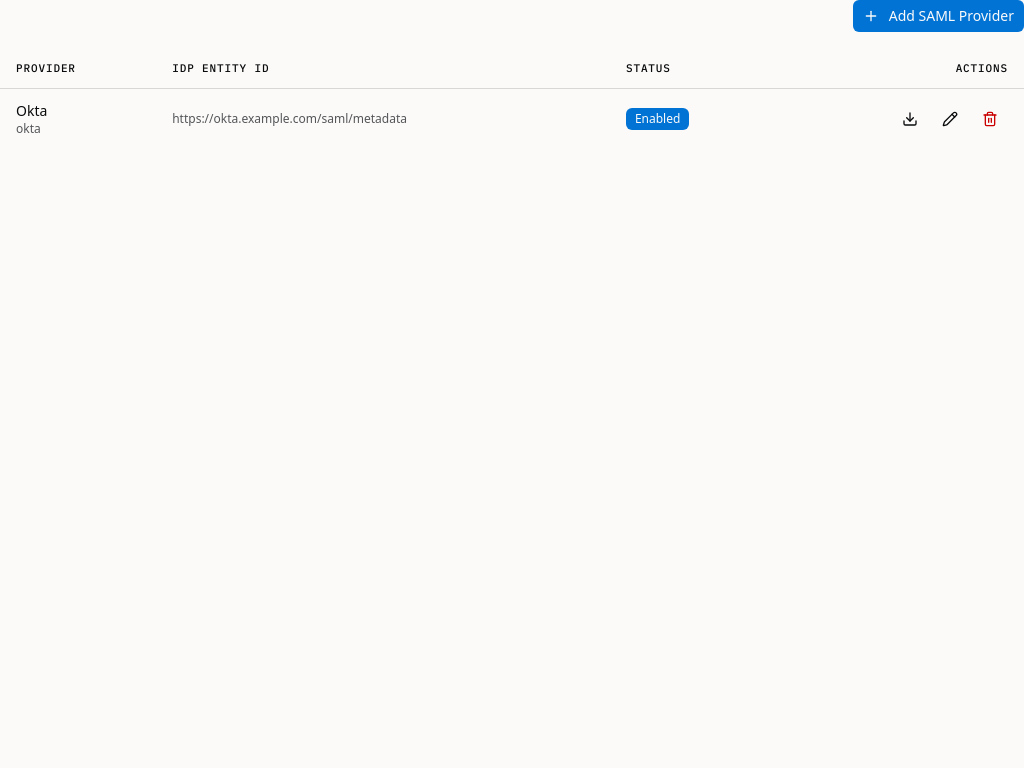
SamlProvidersSection provider mutations › opens the editor with the persisted entity IDs and SSO URL, and keeps the certificate blank
Click the button named "Edit provider" at (950, 119), box [932,103,968,135]
(page scrolled)
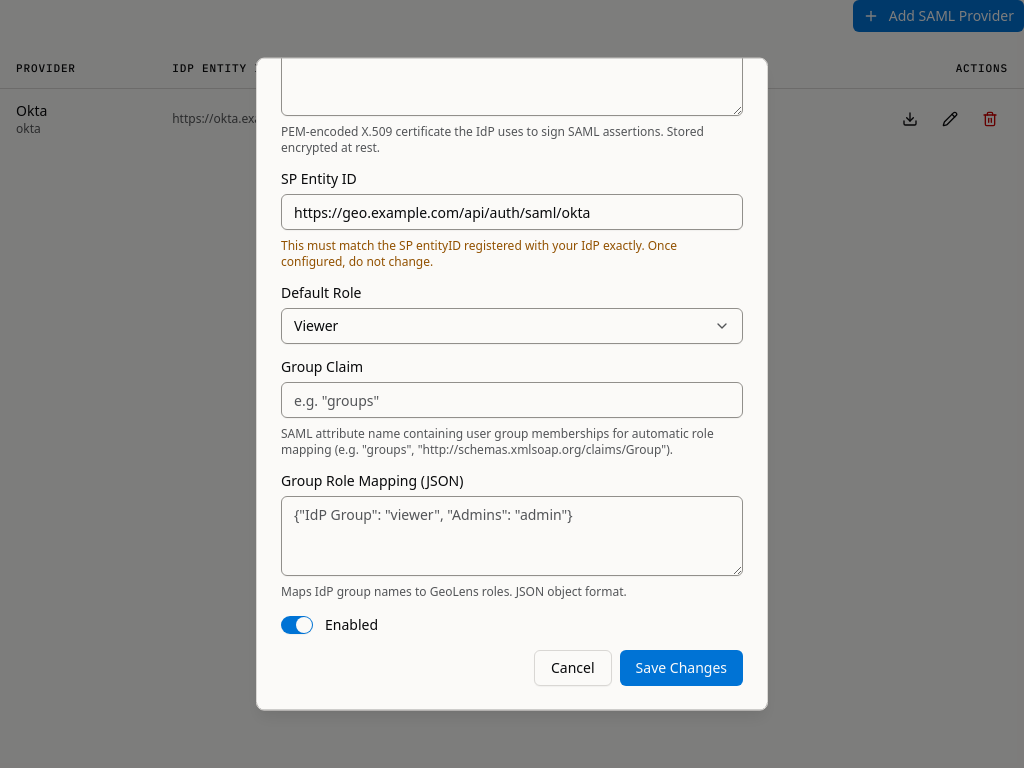
Expected: the field labelled "SP Entity ID" holds "https://geo.example.com/api/auth/saml/okta", [281,194,743,230]
Expected: the button "Save Changes" is enabled, [620,650,743,686]
